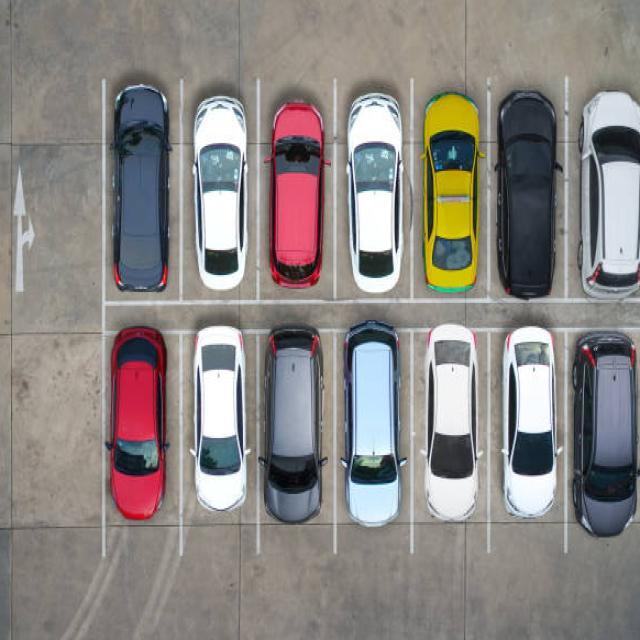cars: (570, 333, 640, 541), (494, 91, 562, 302), (576, 79, 640, 303), (257, 326, 327, 526), (340, 322, 407, 530), (263, 100, 330, 290), (111, 84, 171, 296), (419, 94, 482, 294), (104, 328, 168, 522), (346, 92, 404, 296), (422, 324, 480, 524), (500, 327, 560, 520), (190, 95, 248, 292), (190, 324, 250, 514)
